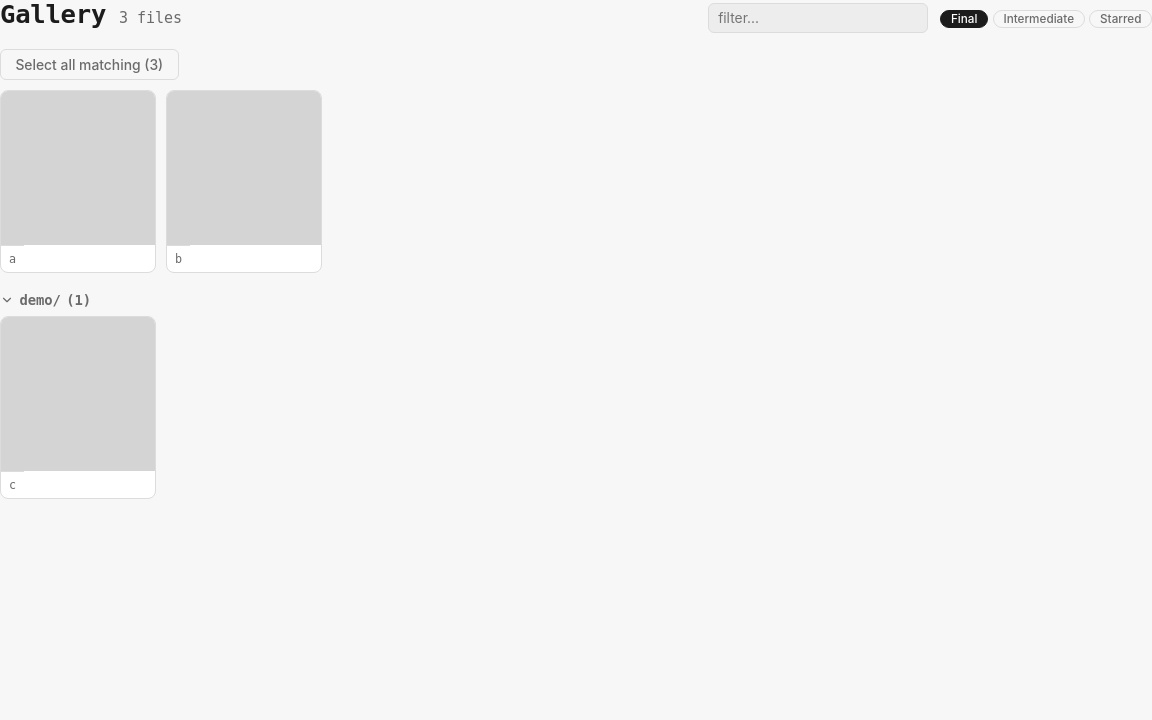
Test case: keeps a file that failed to delete selected and reports it
The width and height of the screenshot is (1152, 720).
Click the checkbox named "select a.png" at (78, 181), box [0,90,156,273]
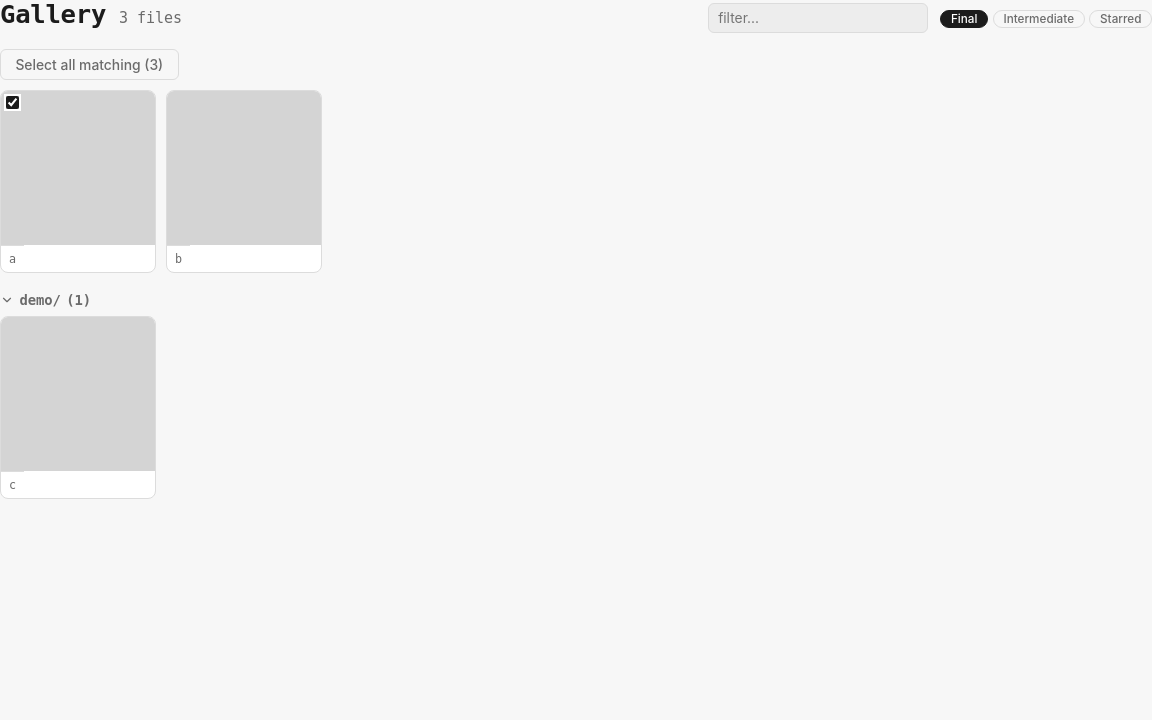
Click the checkbox named "select b.png" at (244, 181), box [166,90,322,273]
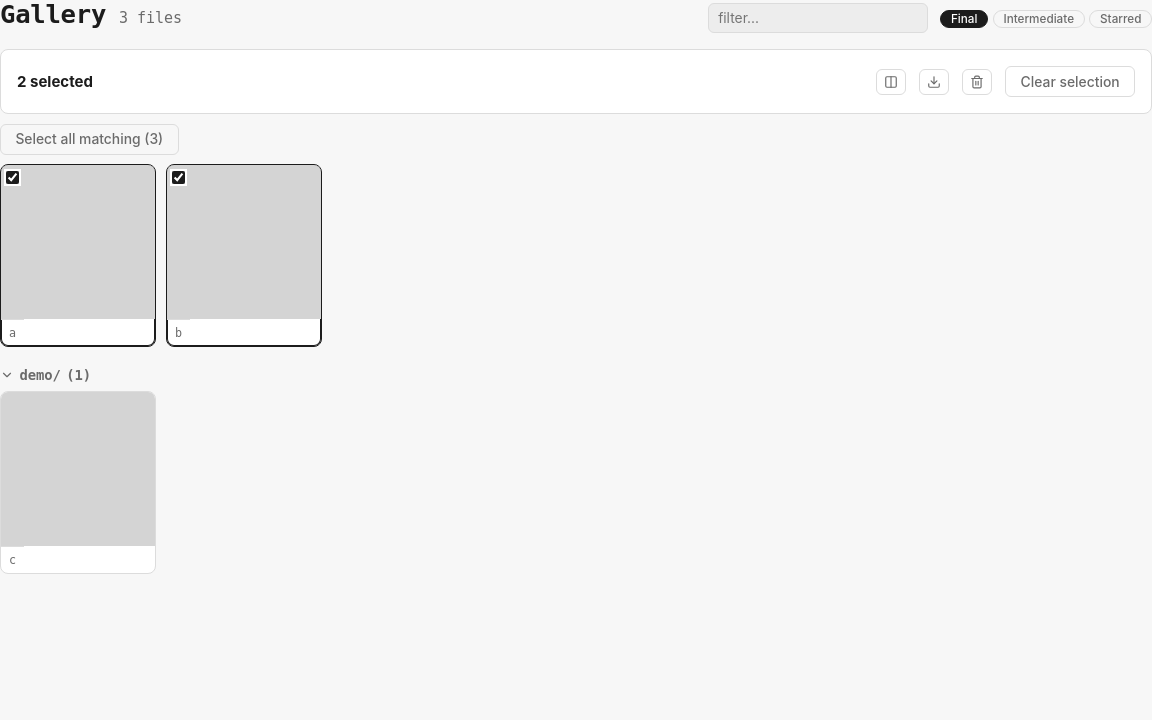
Now the text "2 selected" is shown, box [17,70,93,94]
Click the button named "delete" at (977, 82), box [962,69,992,95]
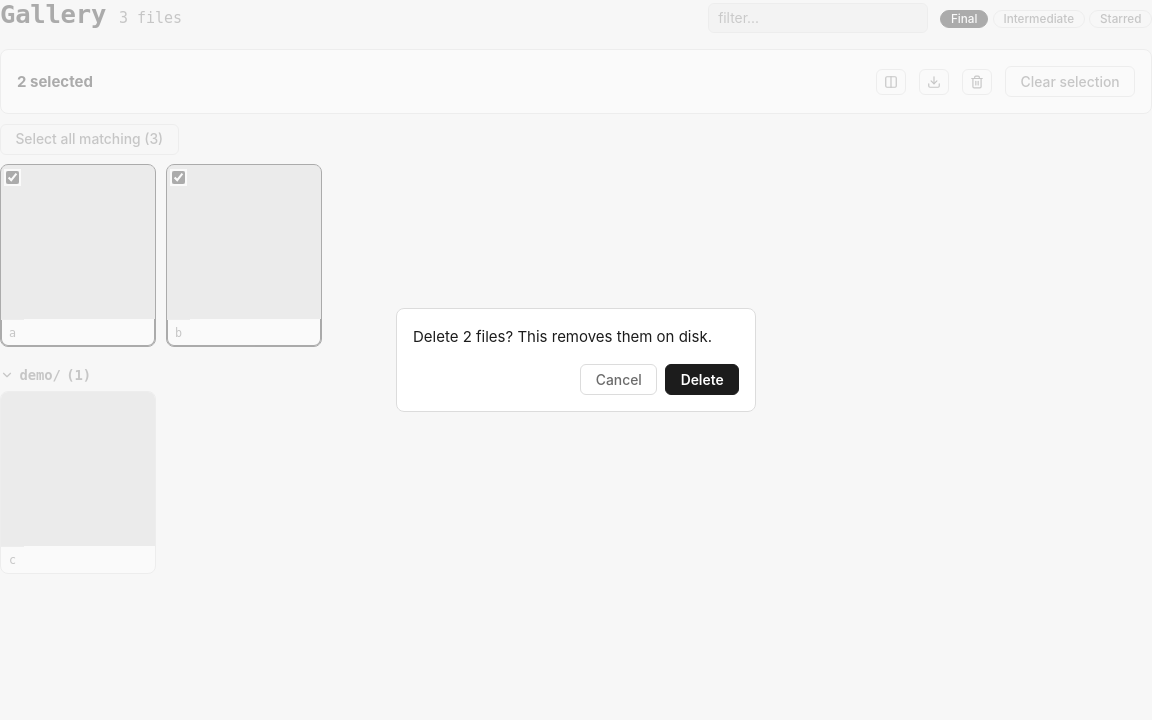
Click the button "Delete" at (702, 380), box [665,364,739,395]
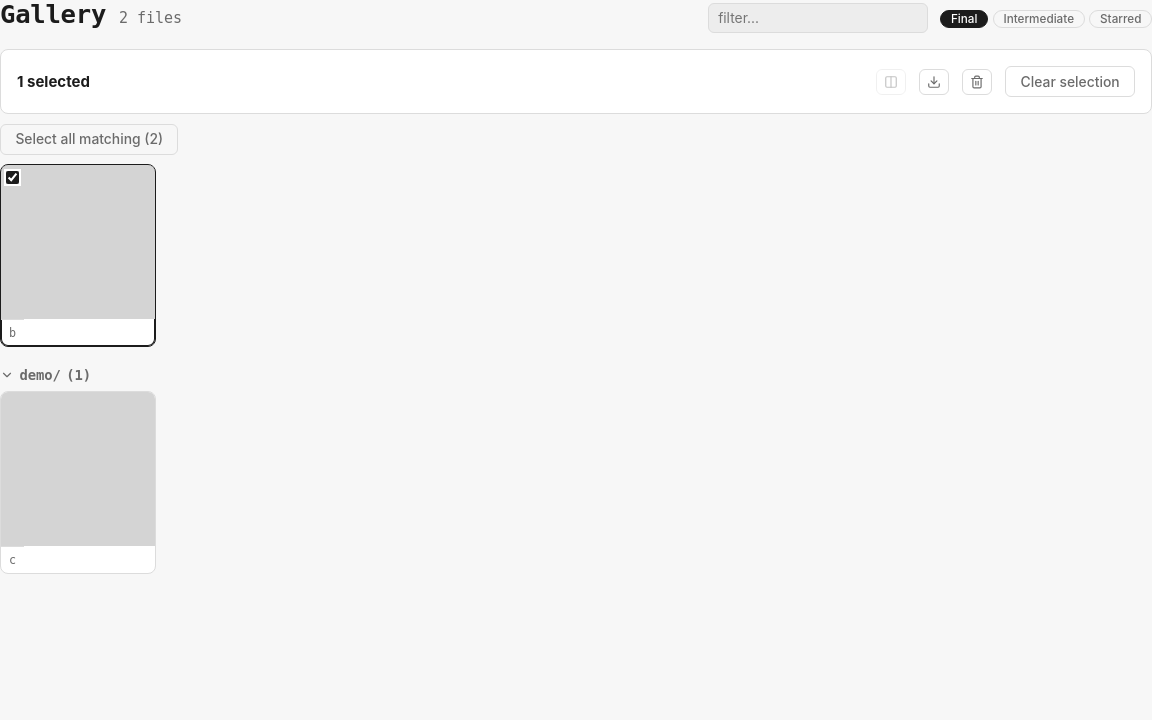
Now the checkbox named "select b.png" is shown, box [6,170,19,184]
Now the text "1 selected" is shown, box [17,70,90,94]
